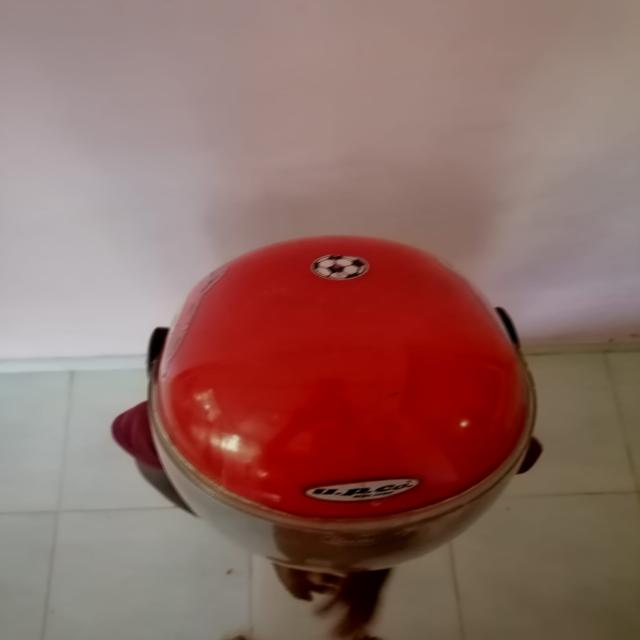With Helmet: (144, 233, 537, 572)
